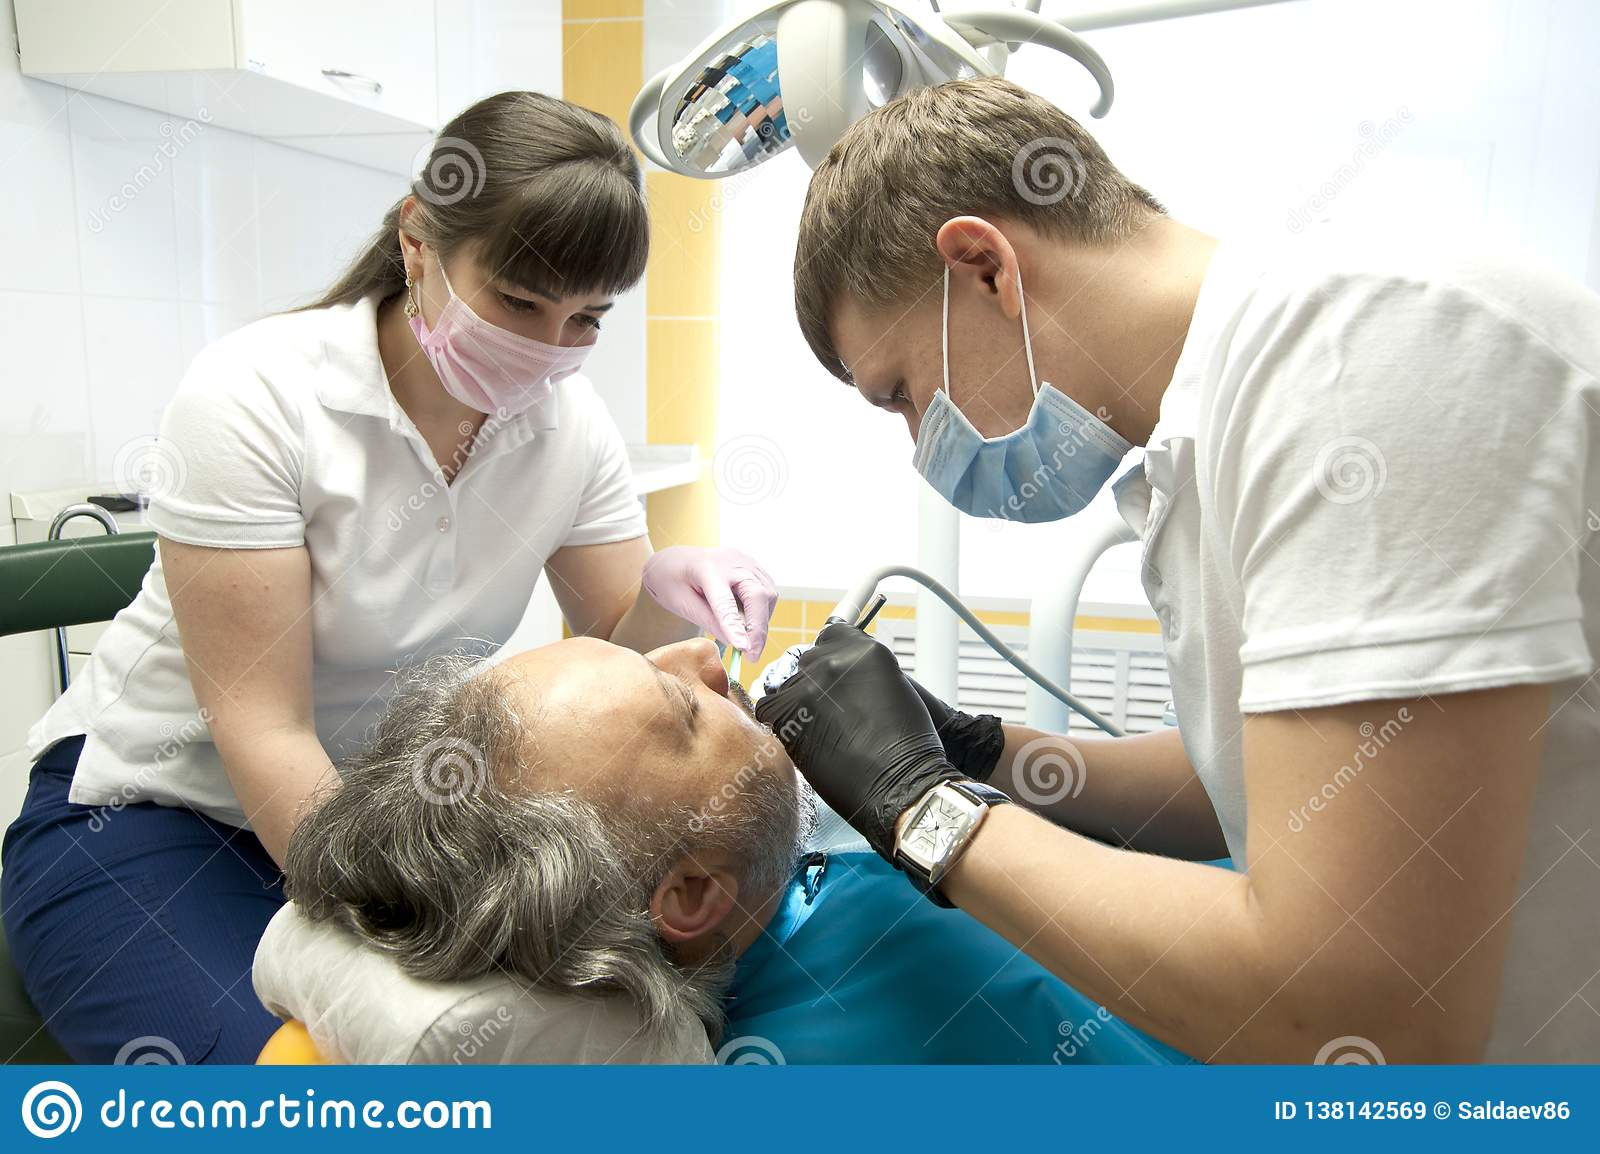mask: (409, 297, 625, 452), (896, 399, 1106, 529)
